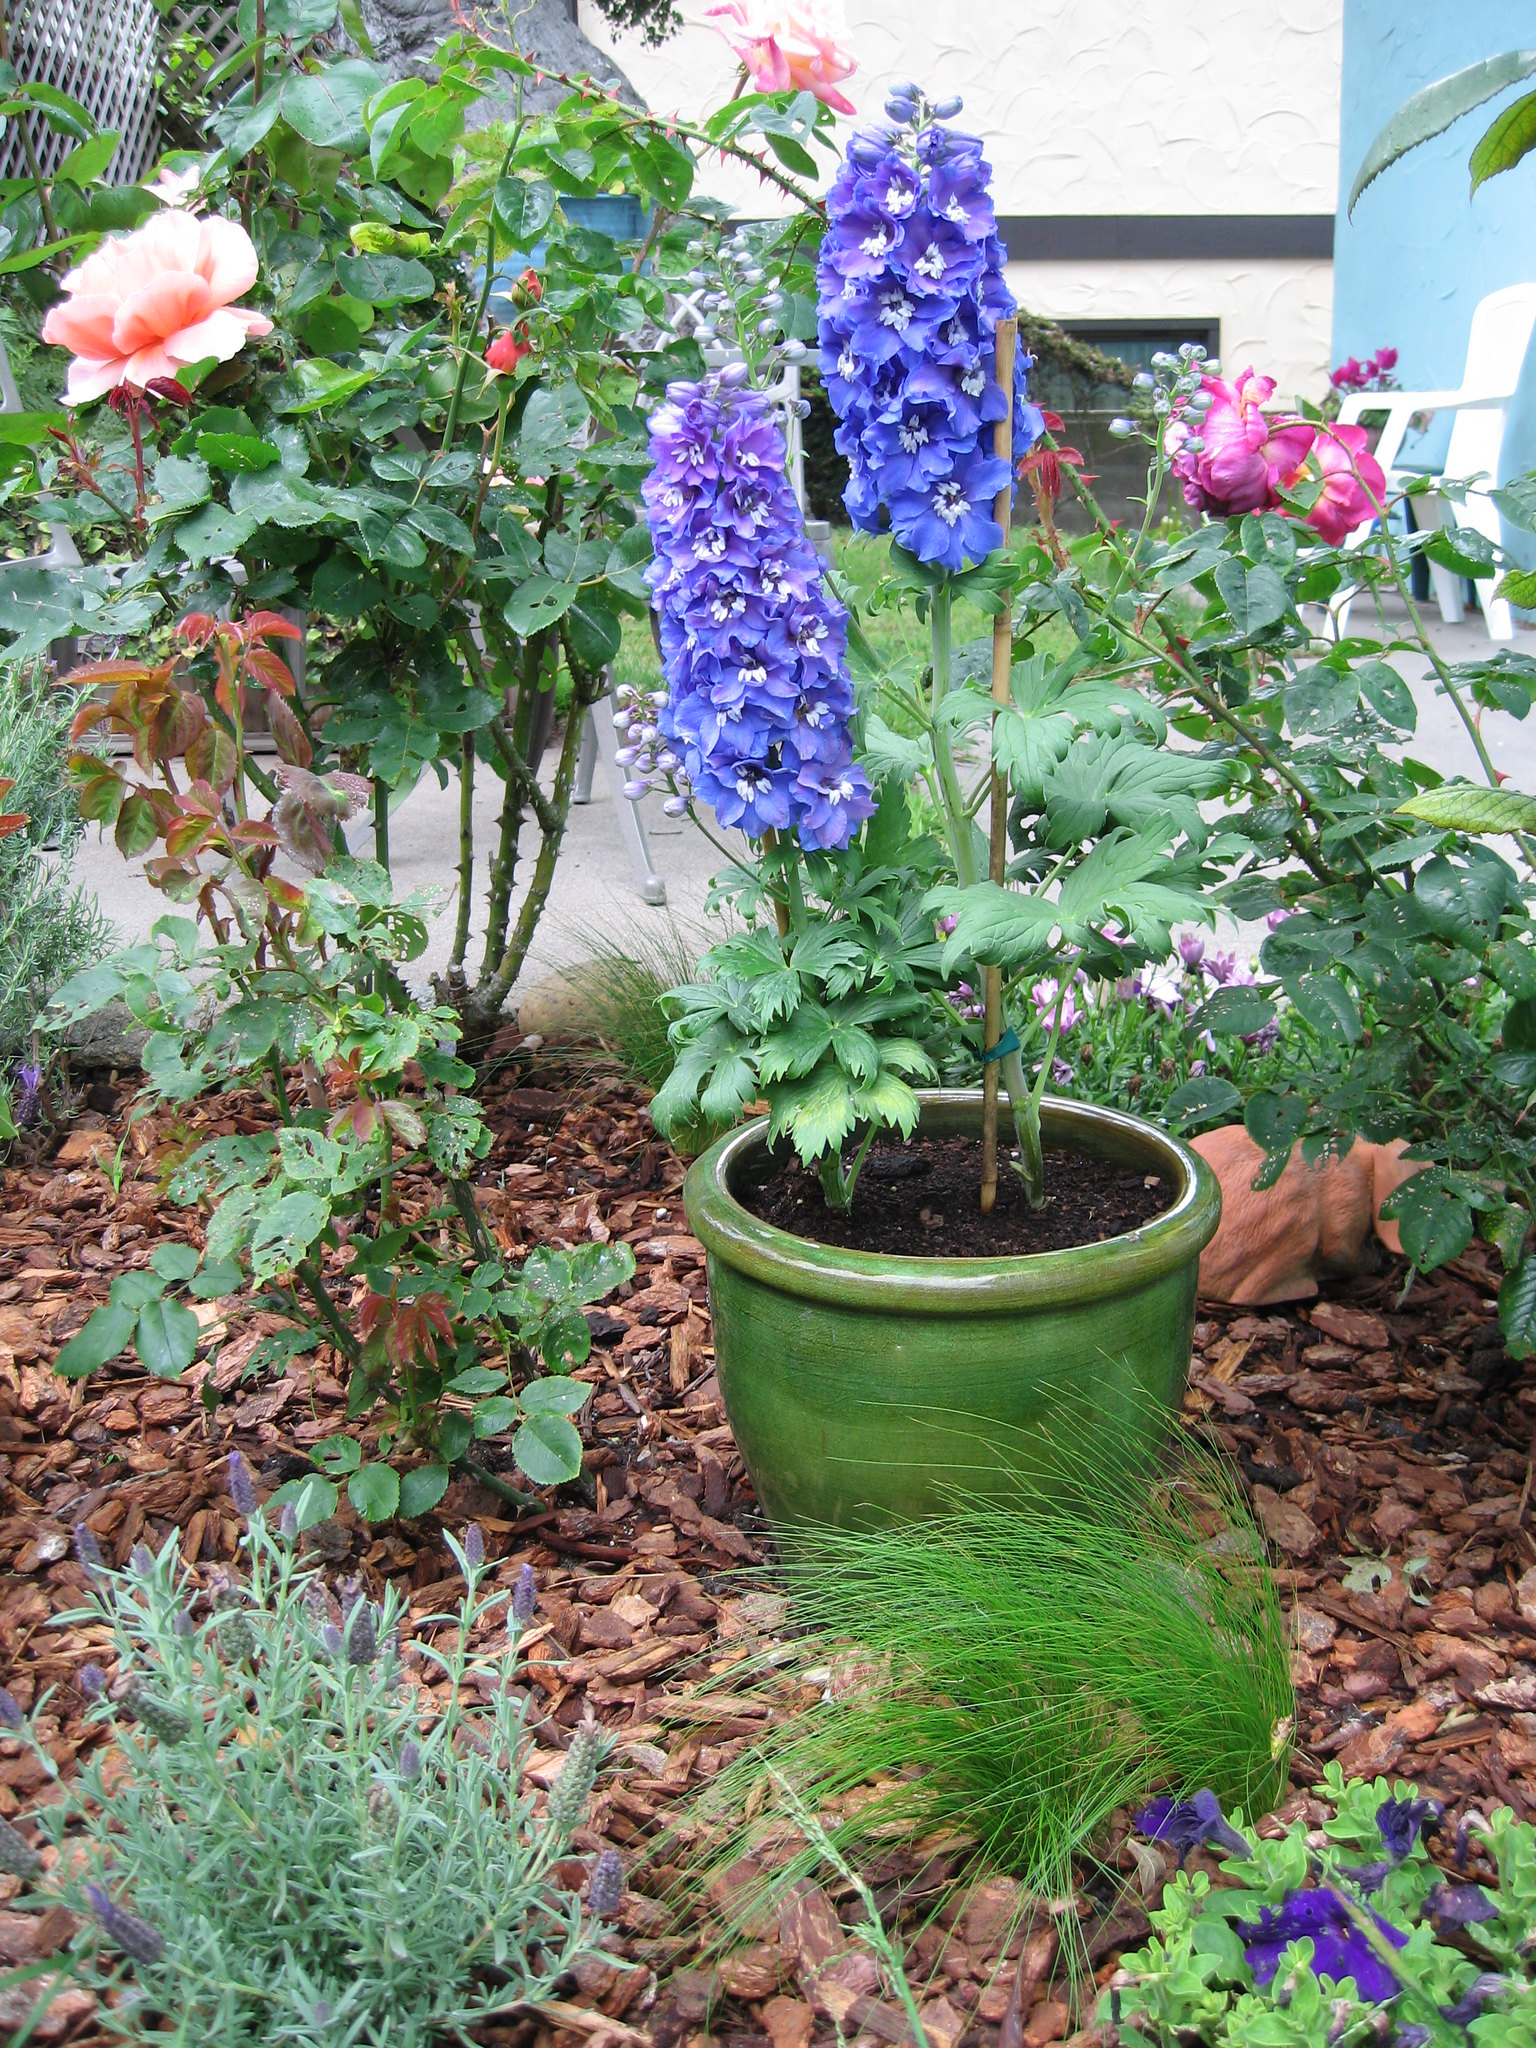potted plant: (629, 114, 1238, 1577)
